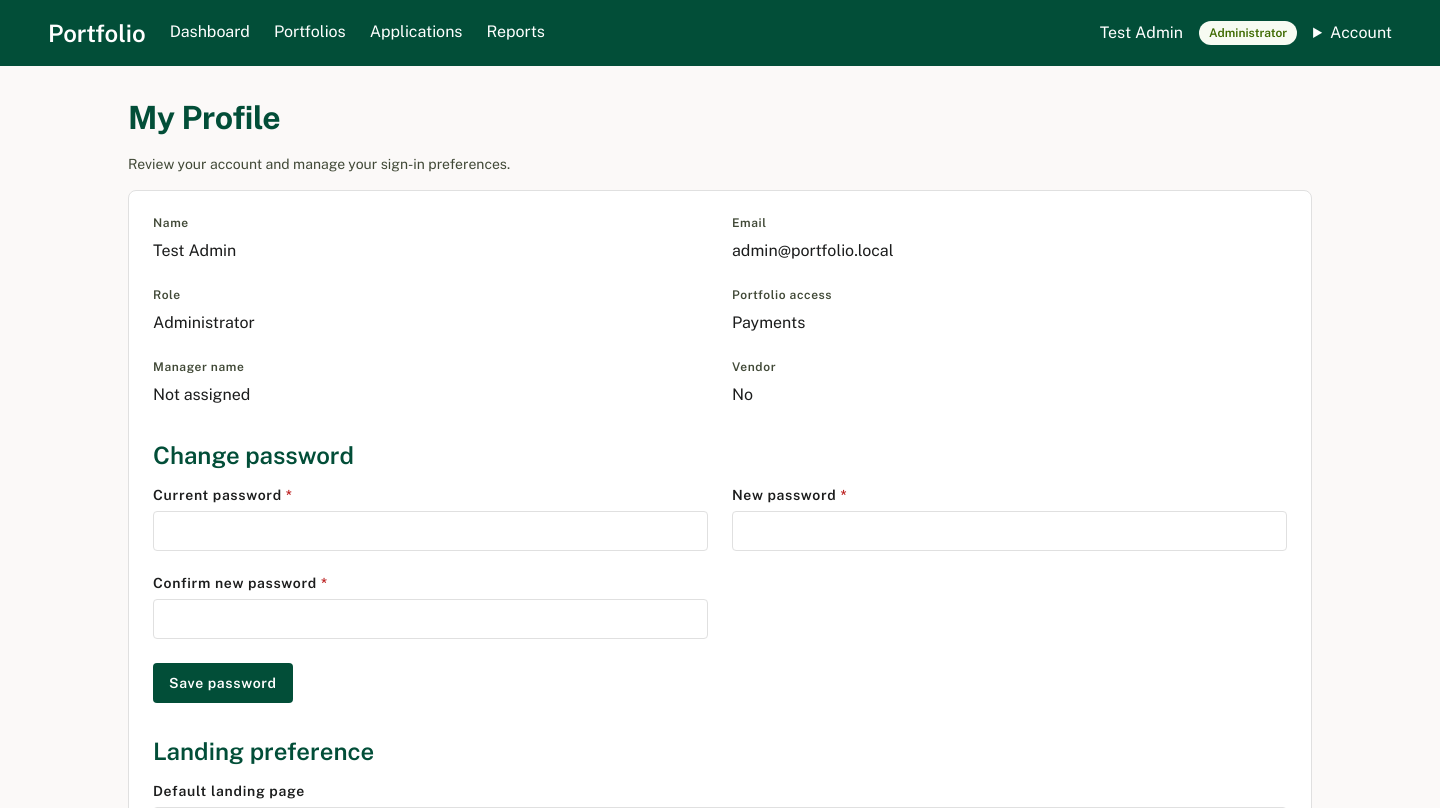
Test case: renders scoped columns and navigates from the shell to detail with stored application names
Expected: the heading "My Profile" is shown, top-left (128, 99), bottom-right (280, 136)
Click the link "Portfolios": (310, 32) top-left (274, 22), bottom-right (346, 41)
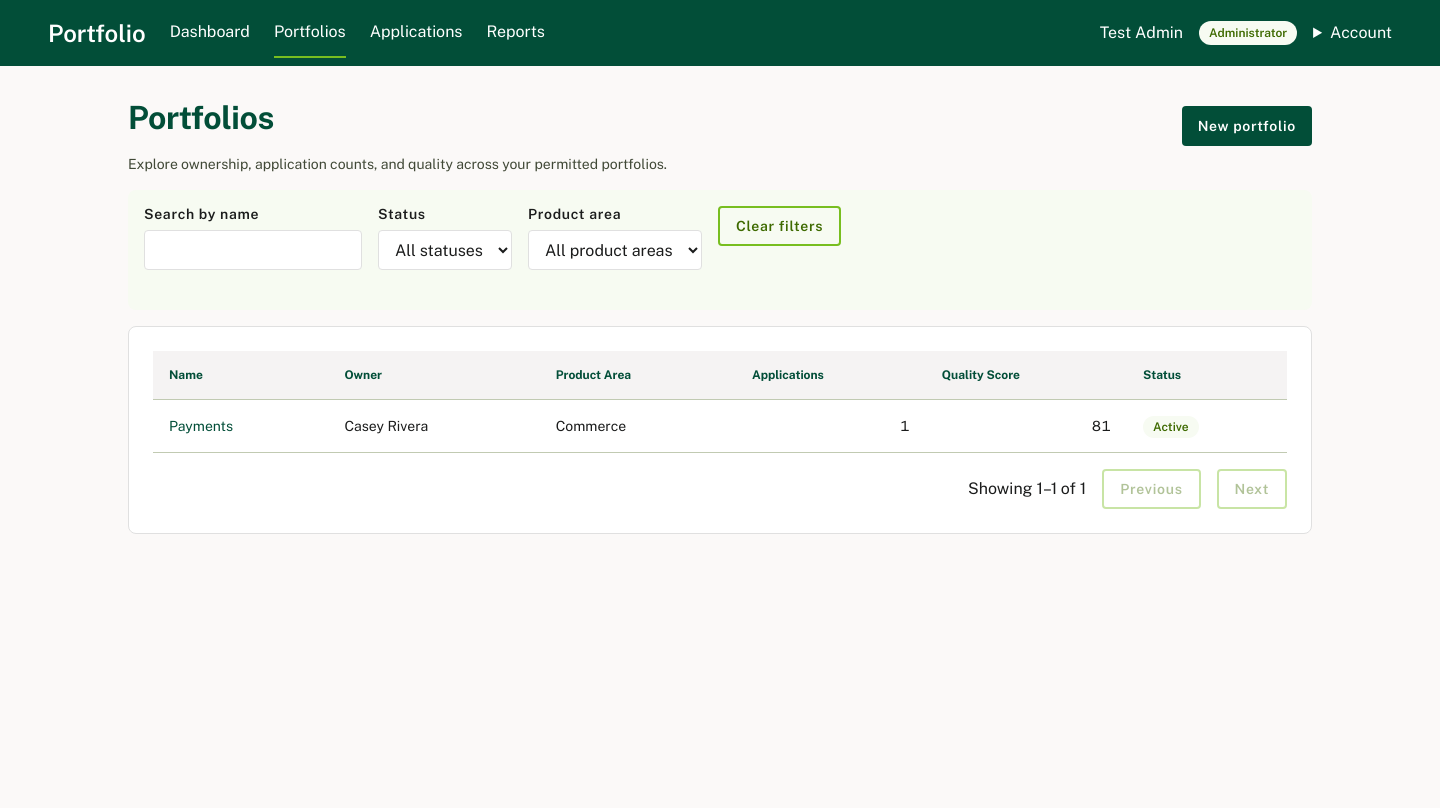
Now the column heading "Quality Score" is shown, box top-left (926, 351), bottom-right (1127, 400)
Now the cell "81" is shown, box top-left (926, 400), bottom-right (1127, 452)
Click the link "Payments": (201, 426) top-left (169, 418), bottom-right (233, 434)
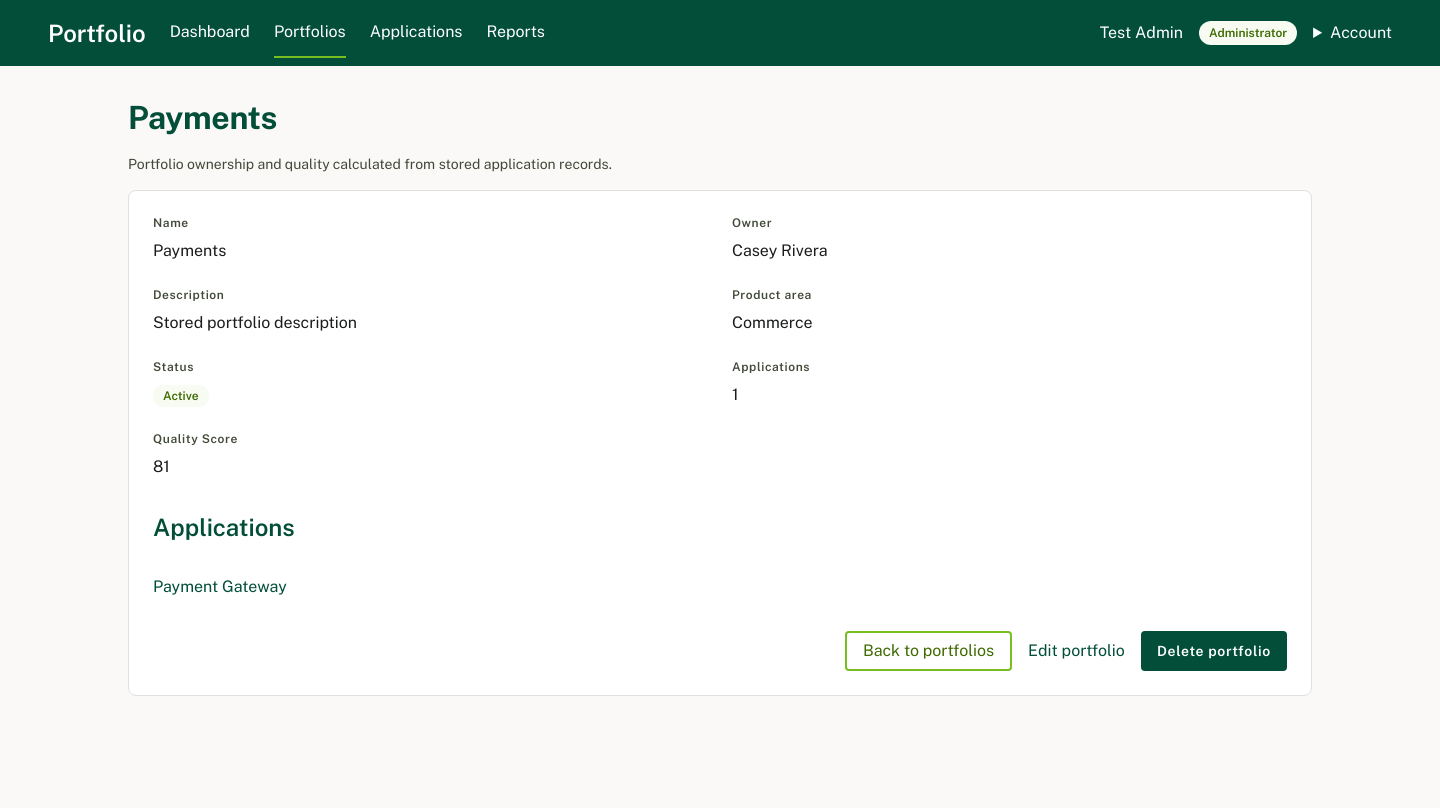
Now the text "Stored portfolio description" is shown, box top-left (153, 313), bottom-right (357, 332)
Now the link "Payment Gateway" is shown, box top-left (153, 577), bottom-right (287, 596)
